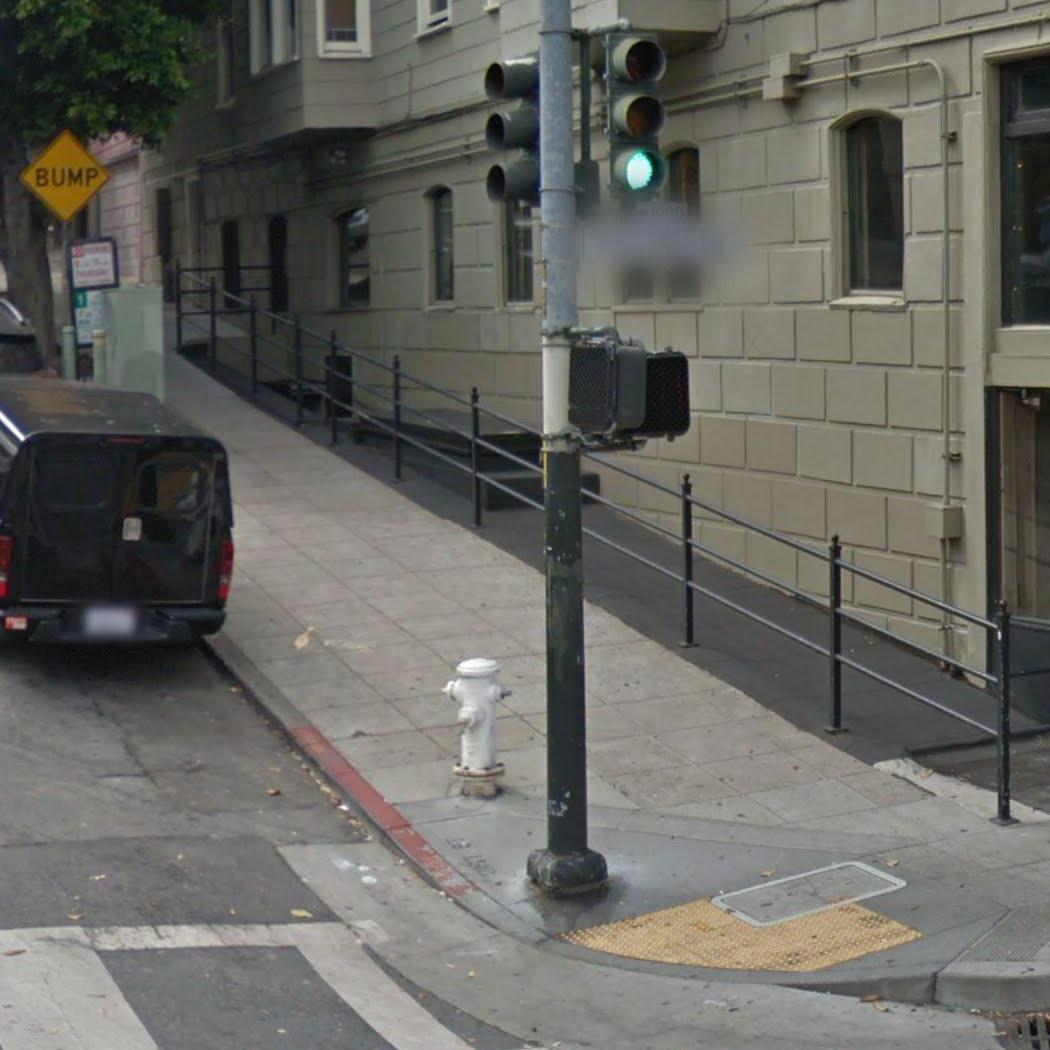1 Hour Parking: (71, 287, 110, 346)
No Parking: (64, 236, 119, 291)
